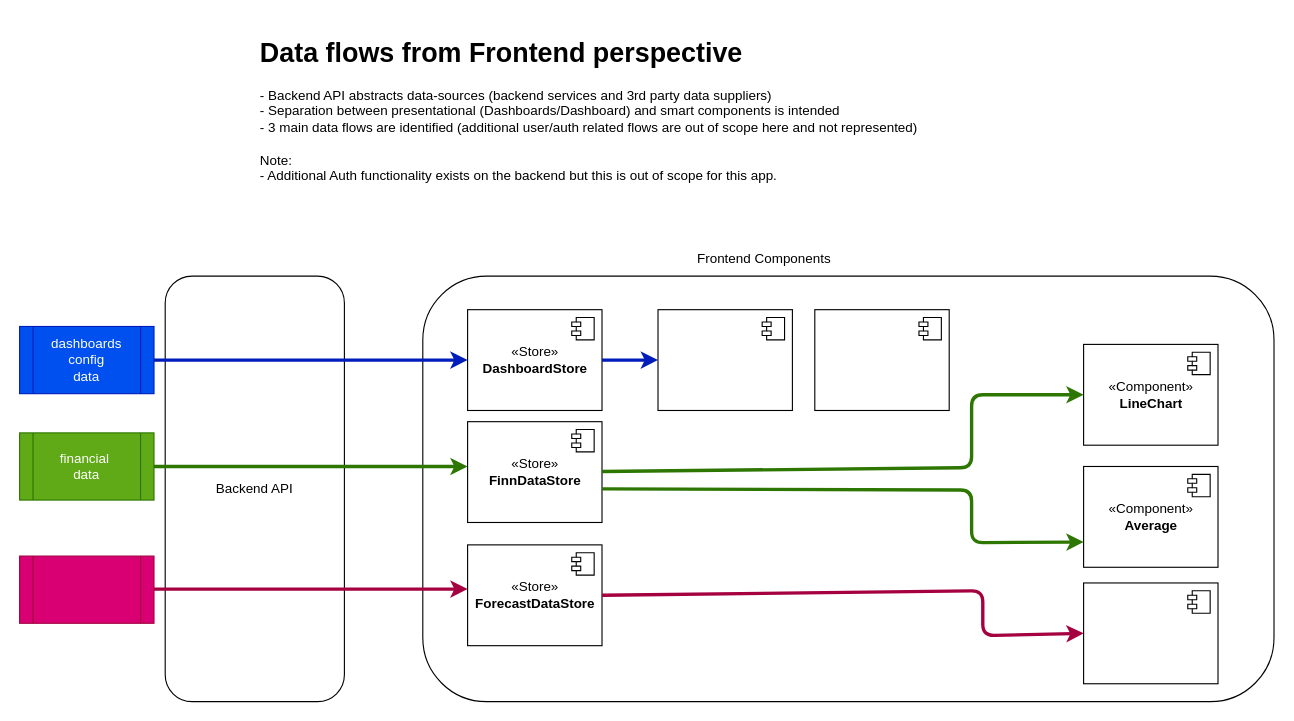
Some shapes in this 1294 by 721 pixel diagram are drawn without their labels. The shapes that lost their labels are listed below. From the top down, each one's centre as x and y in pixels, then its label:
At (x=724, y=359): "«Component» DashboardList".
At (x=881, y=359): "«Component» Dashboard".
At (x=86, y=589): "forecasting data".
At (x=1150, y=633): "«Component» Forecast".
